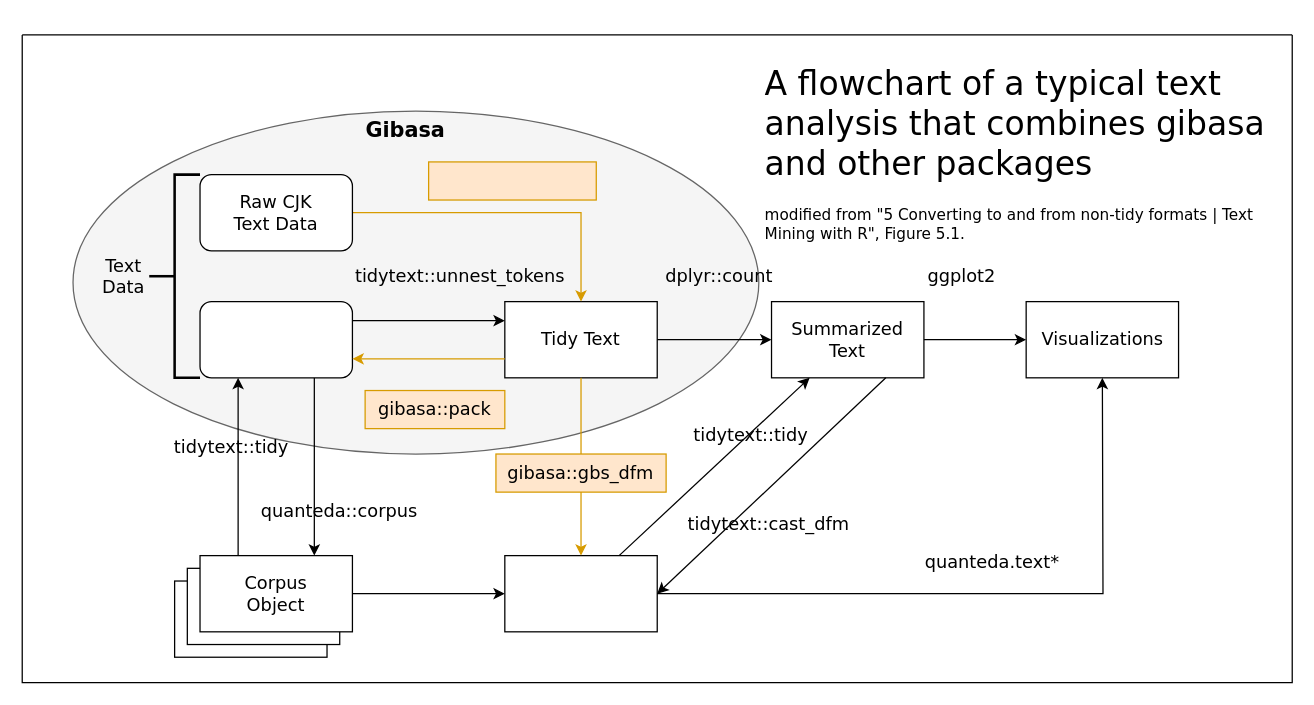
The diagram is 1314 pixels wide and 705 high, and some of its shapes have lost their labels. Here are the shapes that lost their labels. From the top down, the centre of each, then its label:
(x=511, y=180): gibasa::tokenize
(x=275, y=339): Space-Separated Text Data
(x=580, y=593): Document-Term Matrix
